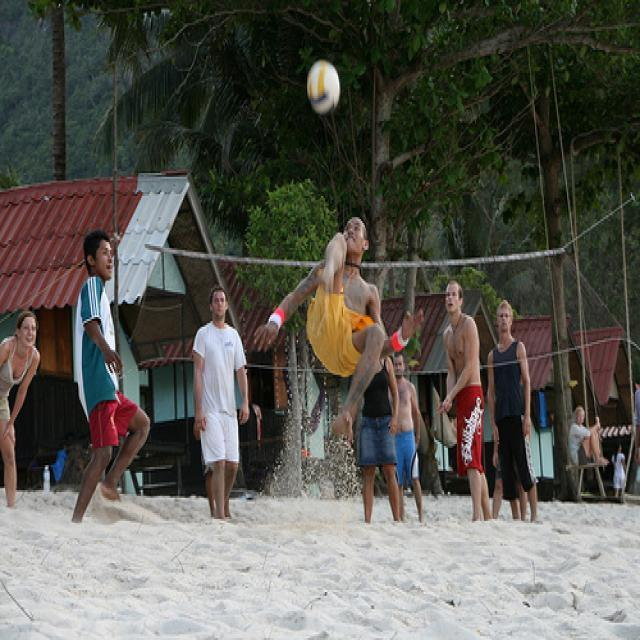volleyball: (307, 59, 340, 114)
